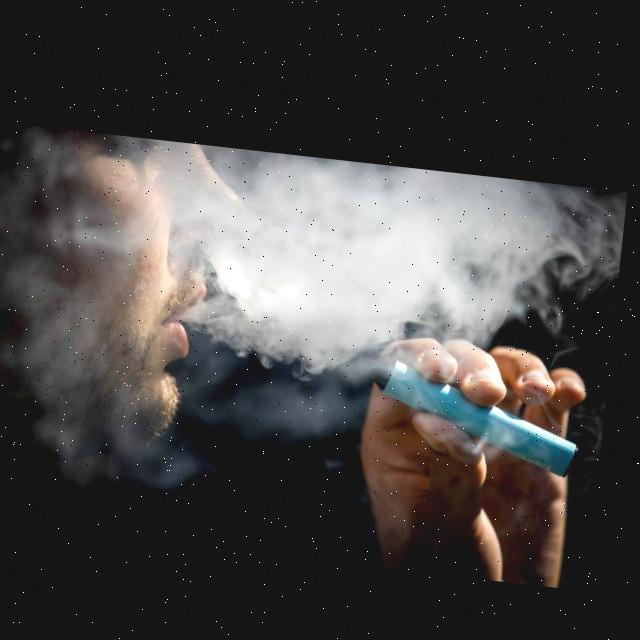vape: (360, 343, 596, 463)
